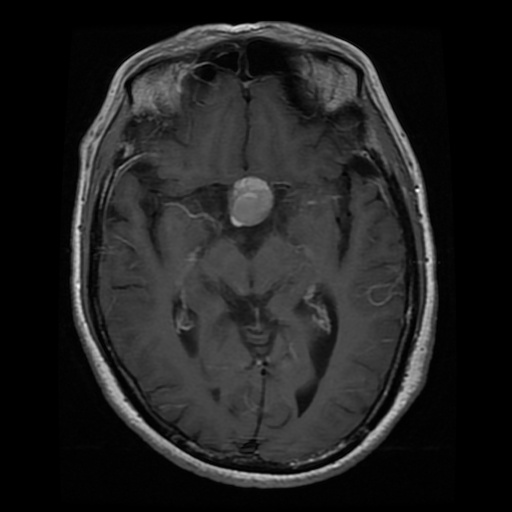pituitary: (229, 177, 273, 227)
